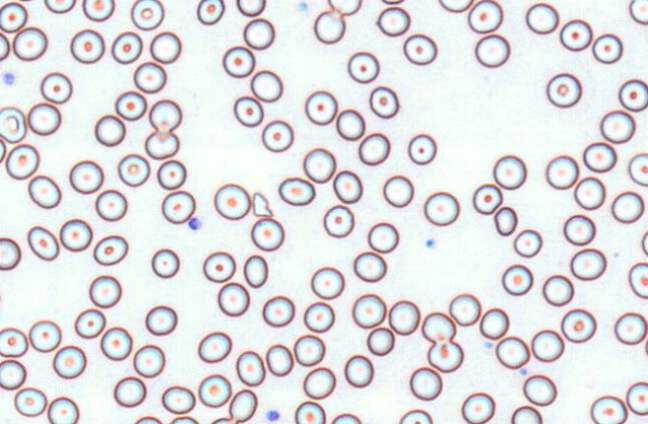PLT: (2, 71, 15, 87), (265, 408, 280, 421), (294, 1, 309, 14), (188, 217, 201, 231), (425, 238, 438, 249)
RBC: (213, 183, 250, 220), (560, 308, 596, 343), (423, 191, 459, 226), (351, 293, 386, 328), (12, 26, 47, 61), (546, 72, 581, 107), (302, 147, 336, 183), (5, 143, 39, 179), (474, 33, 510, 67), (52, 344, 86, 379), (69, 159, 103, 194), (70, 28, 104, 63), (600, 109, 635, 143), (492, 154, 526, 189), (545, 154, 579, 189), (467, 0, 503, 33), (148, 99, 182, 133), (197, 373, 231, 407), (495, 335, 529, 369), (250, 217, 284, 251), (27, 174, 61, 208), (161, 190, 195, 224), (304, 90, 337, 125), (427, 340, 463, 372), (388, 299, 420, 335), (570, 248, 606, 280), (409, 366, 442, 400), (117, 153, 150, 187), (88, 274, 121, 308), (310, 266, 344, 299), (614, 311, 647, 345), (27, 102, 61, 135), (421, 311, 456, 343), (217, 281, 249, 316), (27, 225, 59, 260), (448, 293, 481, 326), (531, 329, 564, 362), (611, 190, 644, 223), (261, 119, 294, 152), (28, 319, 61, 352), (59, 218, 92, 251), (559, 18, 592, 51), (522, 374, 556, 406), (197, 331, 231, 363), (100, 326, 132, 360), (313, 10, 345, 44), (573, 176, 605, 210), (403, 33, 437, 65), (525, 2, 559, 34), (93, 234, 128, 265), (235, 350, 265, 386), (278, 176, 315, 205), (303, 366, 335, 399), (133, 344, 165, 377), (133, 61, 166, 93), (222, 45, 255, 77), (382, 174, 414, 207), (262, 295, 295, 327), (250, 69, 282, 102), (358, 132, 390, 165), (13, 386, 47, 417), (461, 392, 495, 423), (202, 251, 236, 282), (582, 141, 616, 172), (590, 395, 627, 423), (293, 334, 325, 366), (501, 263, 533, 295), (149, 31, 181, 63), (40, 71, 72, 103), (95, 189, 127, 221), (542, 274, 574, 306), (347, 51, 379, 83), (113, 376, 146, 407), (353, 251, 386, 282), (323, 204, 354, 237), (111, 31, 142, 64), (130, 0, 164, 30), (376, 6, 410, 36), (144, 130, 179, 159), (94, 114, 125, 146), (145, 304, 177, 335), (367, 221, 398, 253), (243, 17, 274, 49), (563, 214, 595, 245), (332, 170, 362, 203), (369, 85, 399, 118), (228, 388, 257, 422), (161, 385, 195, 414), (0, 106, 26, 143), (303, 301, 334, 332), (592, 33, 623, 64), (479, 307, 509, 339), (233, 95, 263, 127), (335, 108, 365, 140), (344, 354, 373, 387), (618, 78, 647, 111), (74, 308, 105, 338), (115, 90, 146, 120), (472, 183, 502, 214), (407, 133, 436, 165), (265, 343, 293, 376), (156, 159, 186, 189), (0, 326, 28, 357), (47, 396, 79, 423), (513, 228, 542, 257), (366, 326, 394, 356), (151, 248, 179, 278), (0, 1, 27, 32), (243, 254, 268, 287), (0, 359, 26, 390), (626, 381, 647, 415), (0, 236, 21, 270), (294, 400, 325, 423), (196, 0, 224, 25), (628, 262, 647, 298), (82, 0, 114, 21), (628, 152, 647, 186), (510, 405, 542, 423), (327, 0, 362, 15), (399, 408, 432, 423), (236, 0, 265, 16), (629, 0, 647, 24), (43, 0, 76, 13), (438, 0, 473, 12), (331, 412, 361, 423), (0, 31, 10, 61), (169, 415, 199, 423), (133, 415, 162, 423), (0, 136, 6, 163), (641, 230, 647, 256), (210, 417, 233, 423), (380, 0, 405, 5), (0, 285, 4, 310), (644, 337, 648, 356)
Schistocyte: (496, 207, 519, 236), (252, 192, 274, 217)
